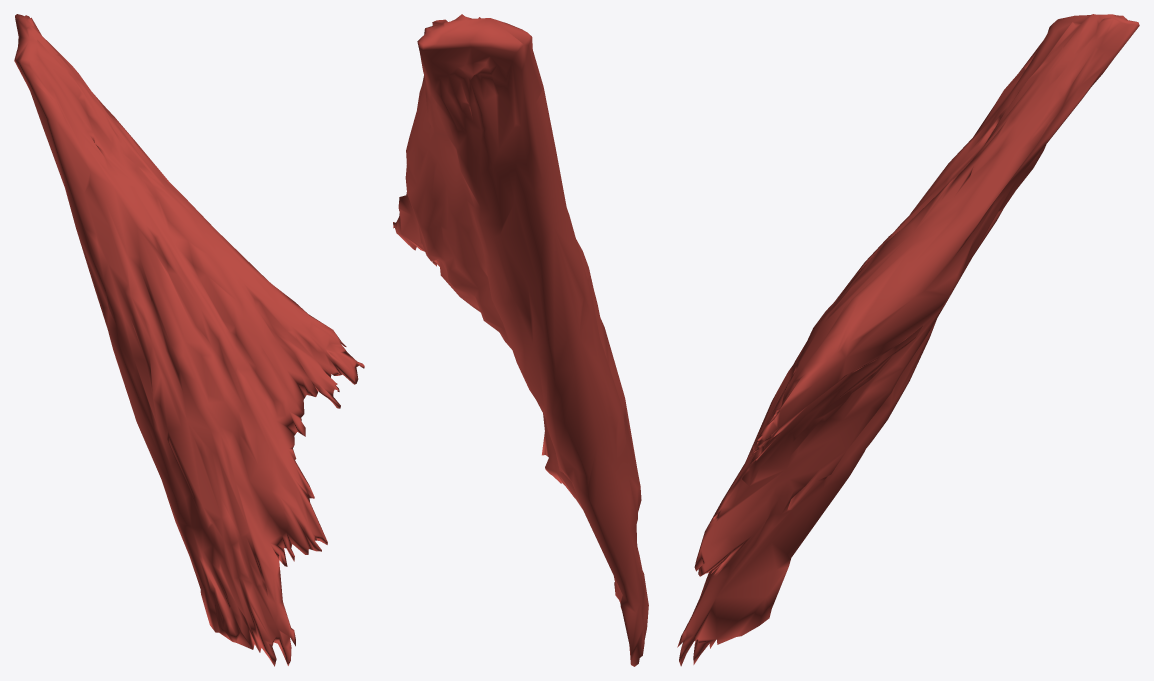
Rendered from musculos-pectoralis-minor-muscle-r.glb.
3 views of the same model, side by side, from view 1: azimuth 30°, elevation 25°; view 2: azimuth 150°, elevation 25°; view 3: azimuth 270°, elevation 25° (orthographic). The views are drawn at different scales.
Parts seen in each view (by area): view 1: Pectoralis minor muscle.r; view 2: Pectoralis minor muscle.r; view 3: Pectoralis minor muscle.r.
Part boxes in pixels (left/top/right/bottom): Pectoralis minor muscle.r: left=14, top=14, right=364, bottom=666; Pectoralis minor muscle.r: left=393, top=14, right=648, bottom=666; Pectoralis minor muscle.r: left=677, top=14, right=1139, bottom=666.
Bounding box in the file's own units: 0.0585 × 0.139 × 0.0951.
